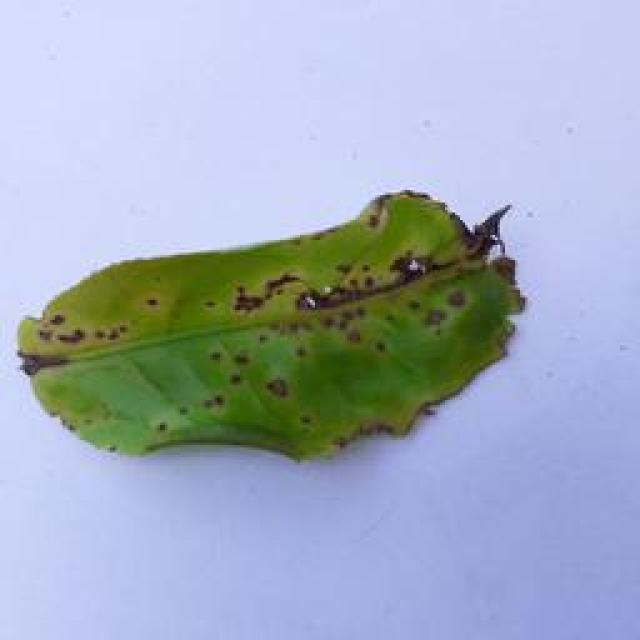Helopeltis: (18, 178, 542, 477)
